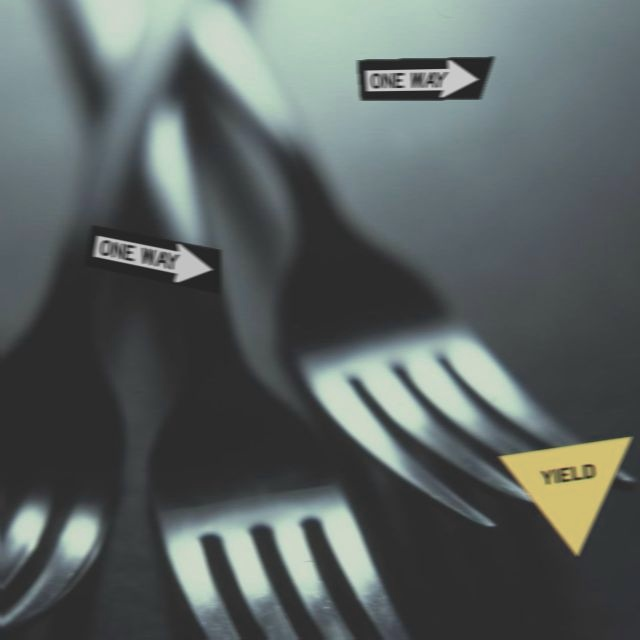ONE_WAY_ right: (82, 225, 220, 296), (355, 57, 493, 102)
YIELD: (495, 436, 633, 560)
